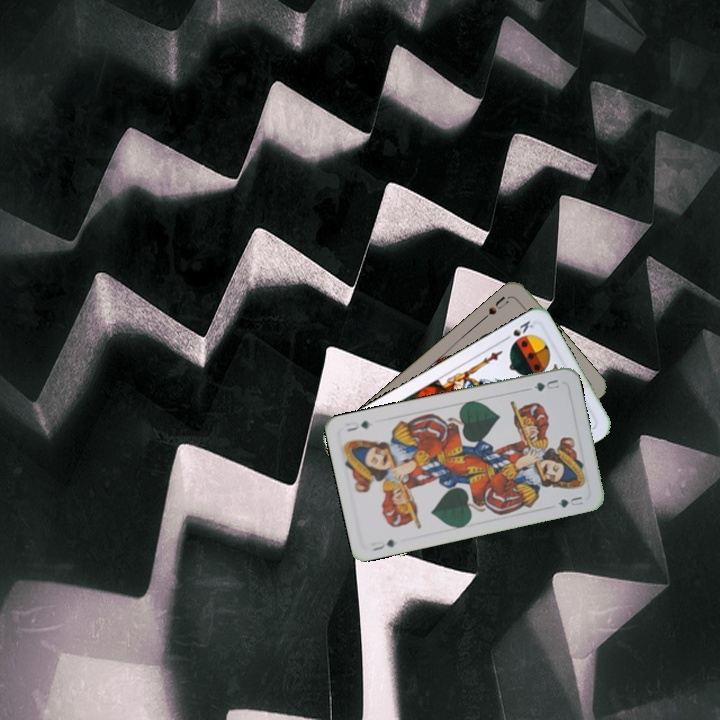GU: (530, 375, 562, 394), (367, 535, 398, 554)
SK: (499, 316, 536, 344)
SU: (479, 292, 511, 322)
